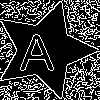A: (19, 25, 55, 70)
